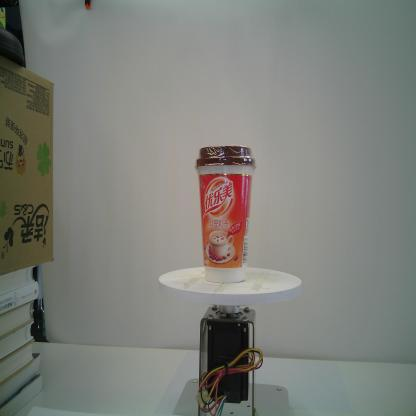Instant Drink: (195, 143, 256, 284)
